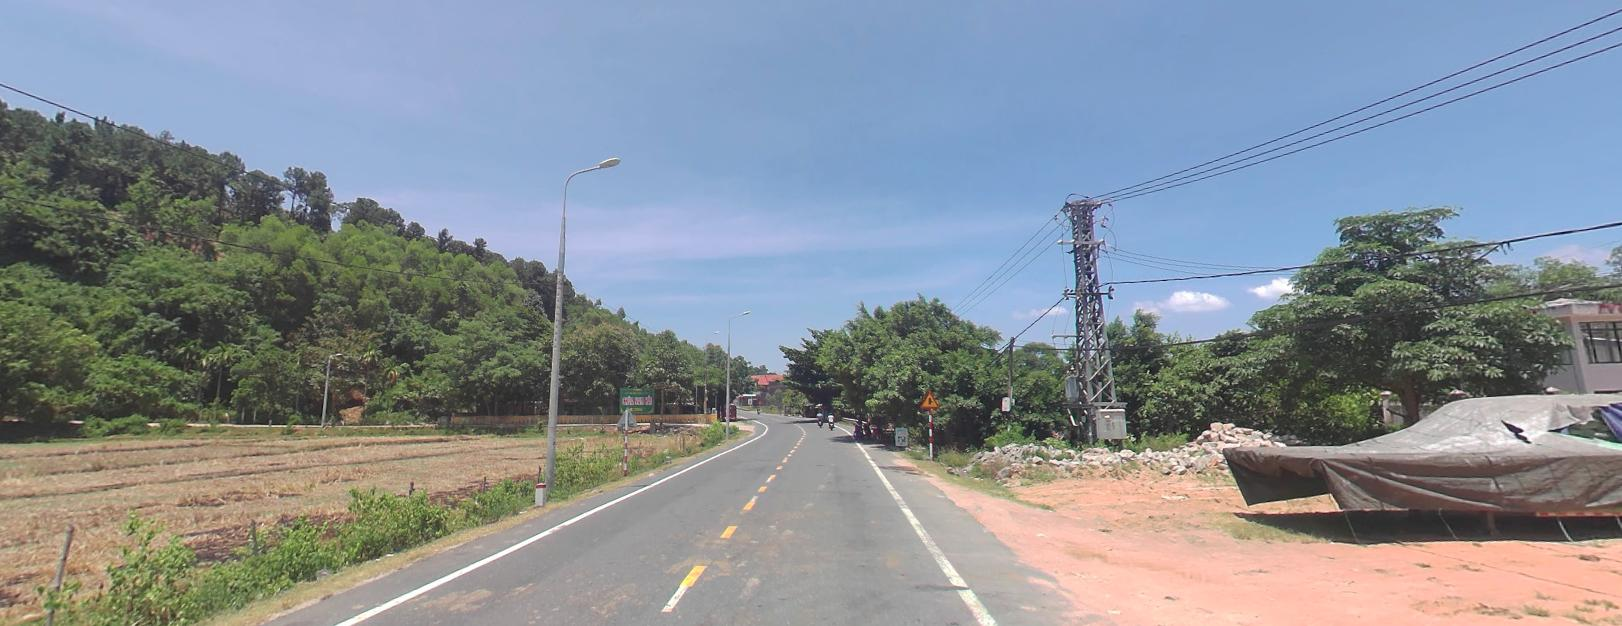Nguy hiem: (919, 390, 939, 408)
